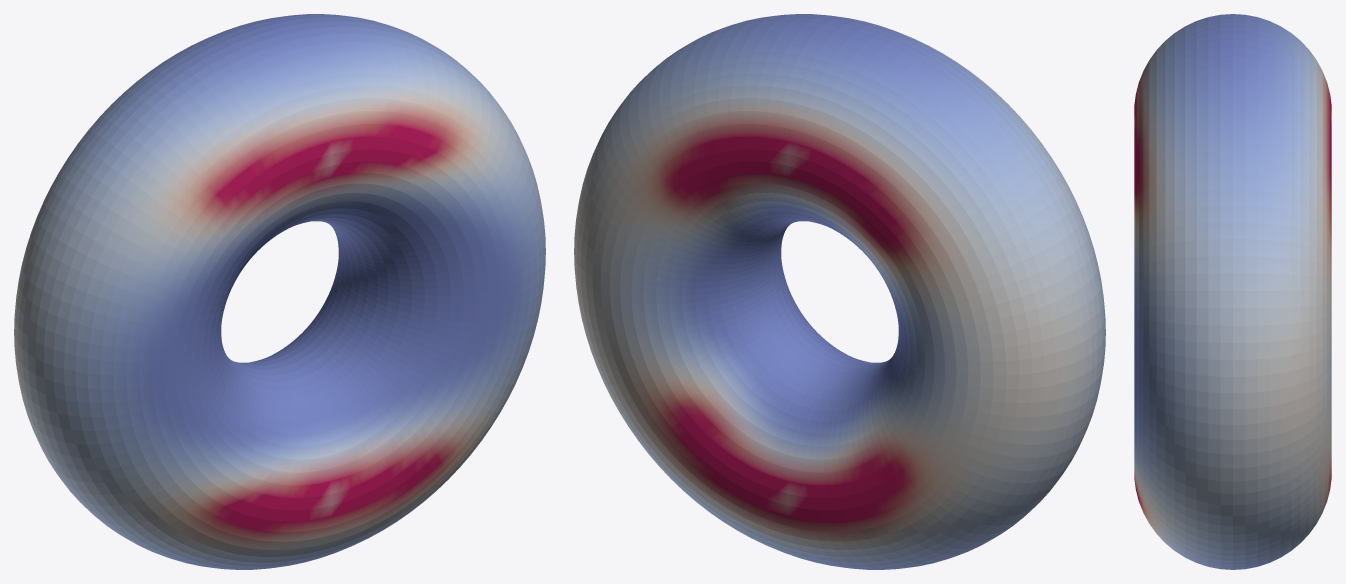
3 renders of one model, left to right at view 1: azimuth 30°, elevation 25°; view 2: azimuth 150°, elevation 25°; view 3: azimuth 270°, elevation 25°, orthographic. The views are drawn at different scales.
Visible parts, largest first — view 1: world; view 2: world; view 3: world.
Part boxes in pixels (x1,y1,x2,y2): world: [14, 14, 545, 569]; world: [574, 14, 1105, 569]; world: [1134, 14, 1331, 569].
Size of the model in its own units: 17.6 by 17.6 by 6.25.
